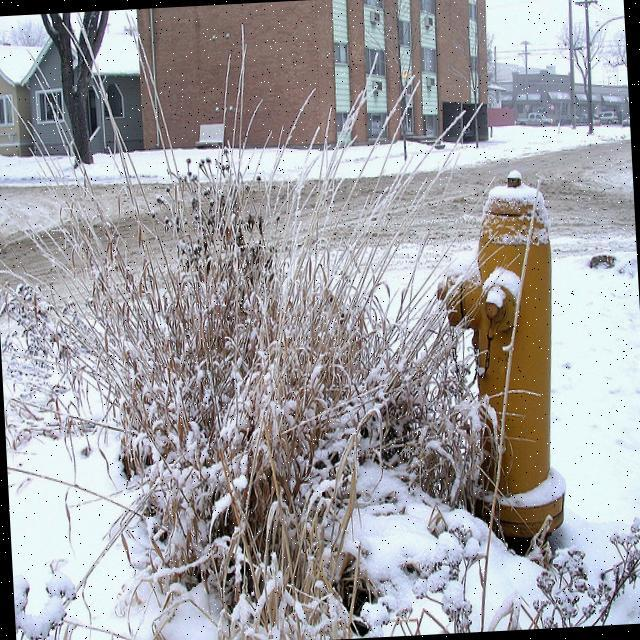fire_hydrant: (432, 168, 566, 542)
